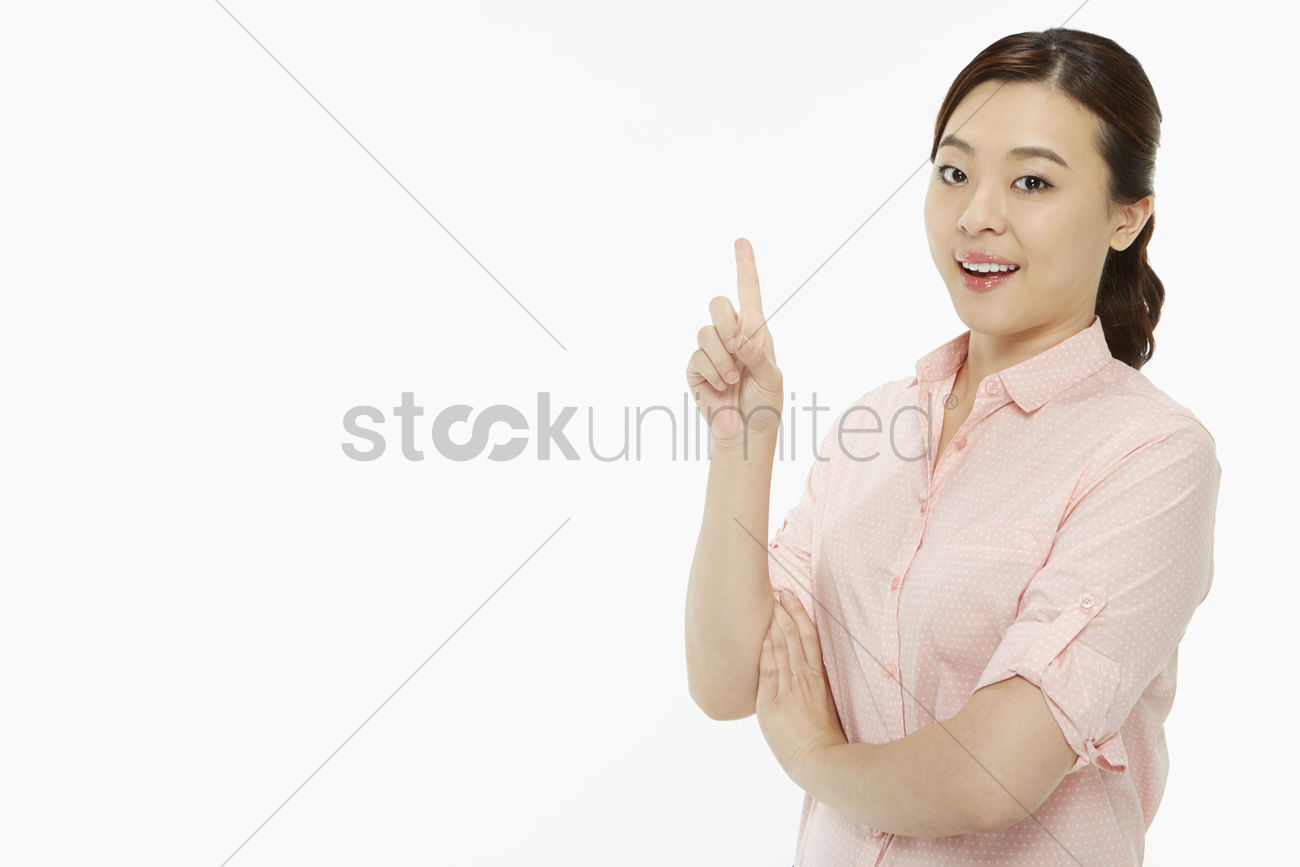move: (687, 237, 788, 438)
shoot: (954, 247, 1023, 295)
